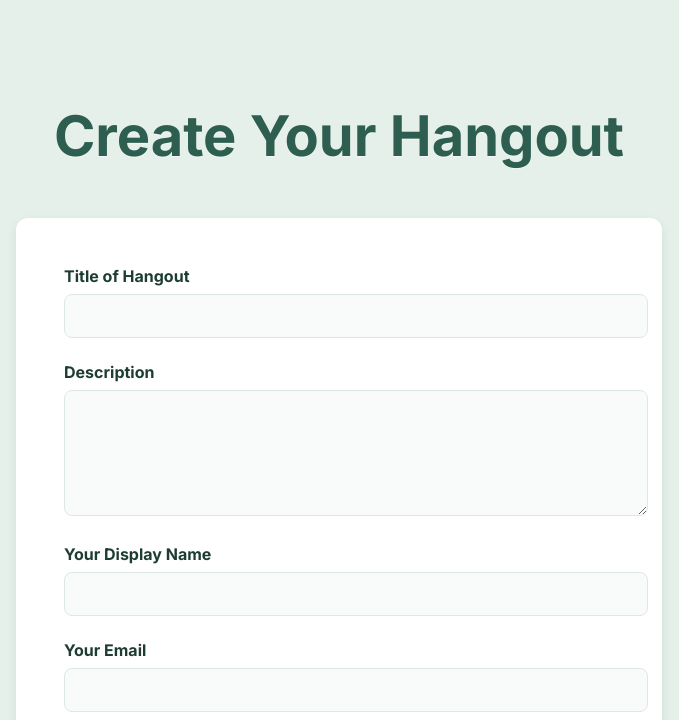
Scenario: CreateEvent › Title validation › shows error when title is too short
The width and height of the screenshot is (679, 720).
Type "Ab" into the field labelled "Title of Hangout" at {"x": 356, "y": 316}, box [64, 294, 648, 338]
(page scrolled)
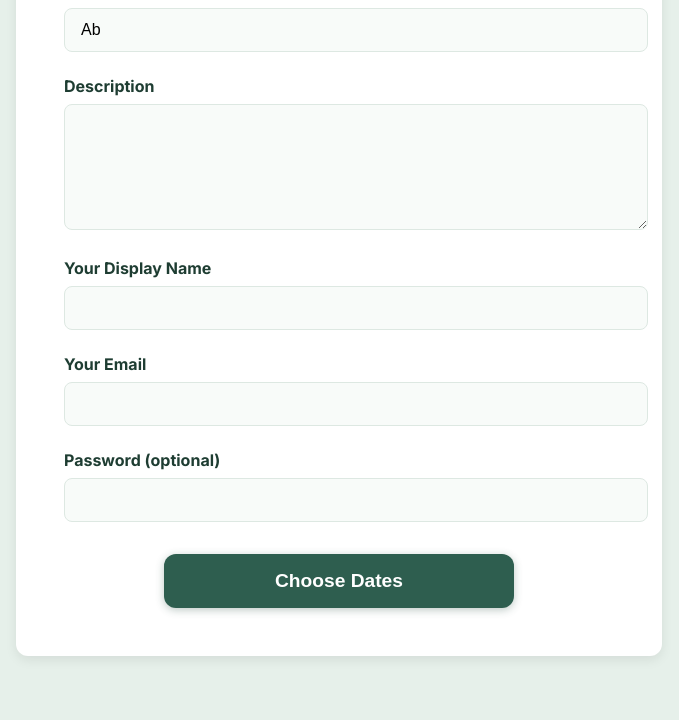
Click the button "Choose Dates" at {"x": 339, "y": 580}, box [164, 554, 514, 608]
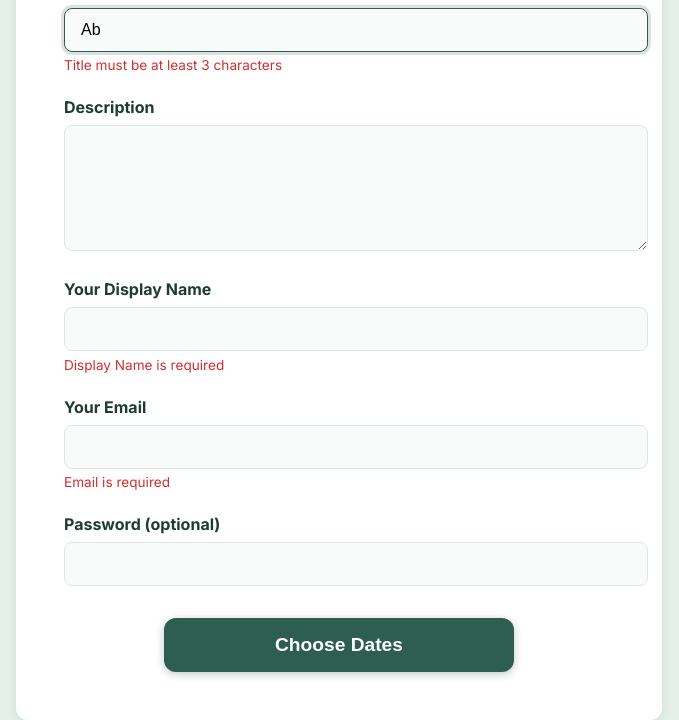
Expected: the text "Title must be at least 3 characters" is shown, [64, 57, 282, 73]
